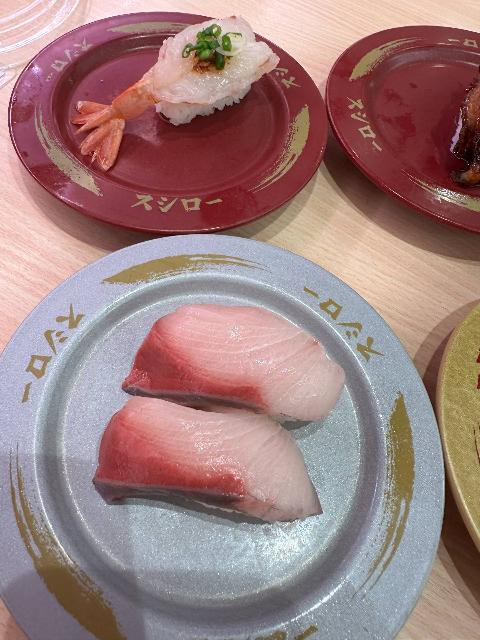jangold: (429, 319, 480, 574)
janred: (0, 0, 338, 241), (327, 14, 480, 246)
janwhite: (0, 254, 419, 640)
